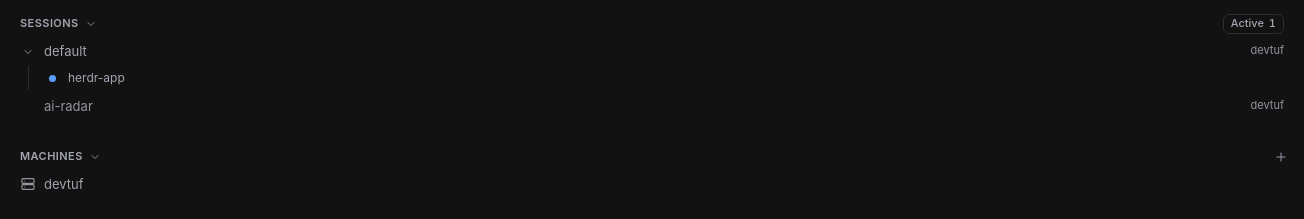
Sidebar › Active shows only sessions with agent work, keeps the viewed one, and Show brings the rest back
The image size is (1304, 219).
Check: the button "ai-radar devtuf" is shown, box top-left (12, 92), bottom-right (1292, 120)
What coordinates should you click on to do the following:
click the button "Active 1"
I would click on:
 (1253, 24)
Its box is top-left (1223, 14), bottom-right (1284, 34).
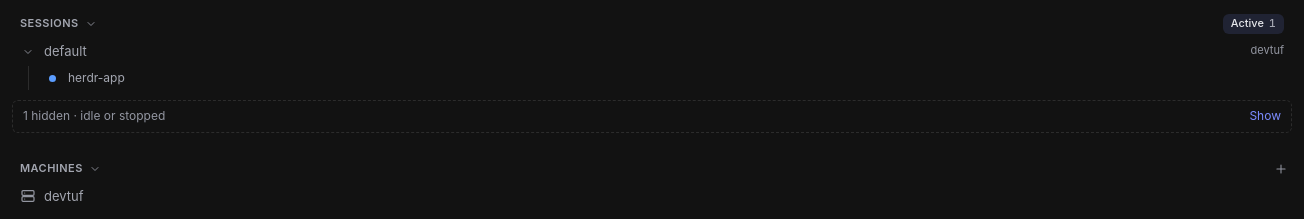
Check: the button "default devtuf" is shown, box top-left (12, 37), bottom-right (1292, 65)
Check: the button "ai-radar" is gone
Check: the text "1 hidden · idle or stopped" is shown, box top-left (23, 108), bottom-right (165, 123)
What coordinates should you click on to do the following:
click the button "Show"
I would click on:
 (1265, 116)
Its box is top-left (1249, 108), bottom-right (1281, 125).
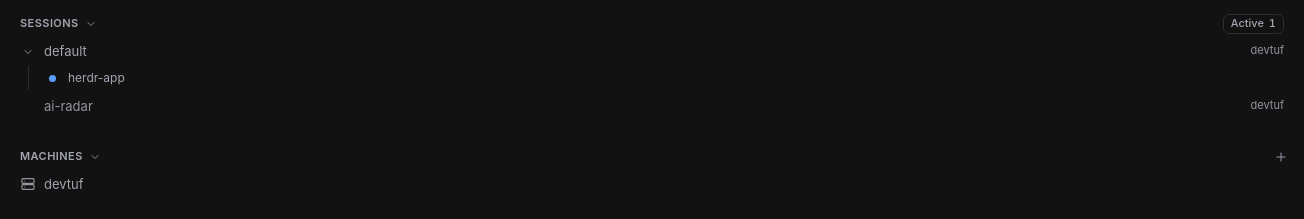
Check: the button "ai-radar devtuf" is shown, box top-left (12, 92), bottom-right (1292, 120)
